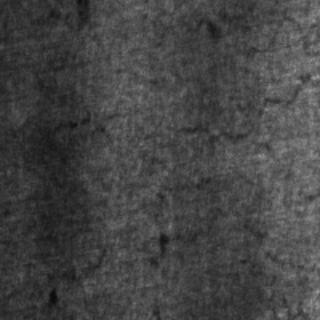crazing: (152, 13, 306, 141)
